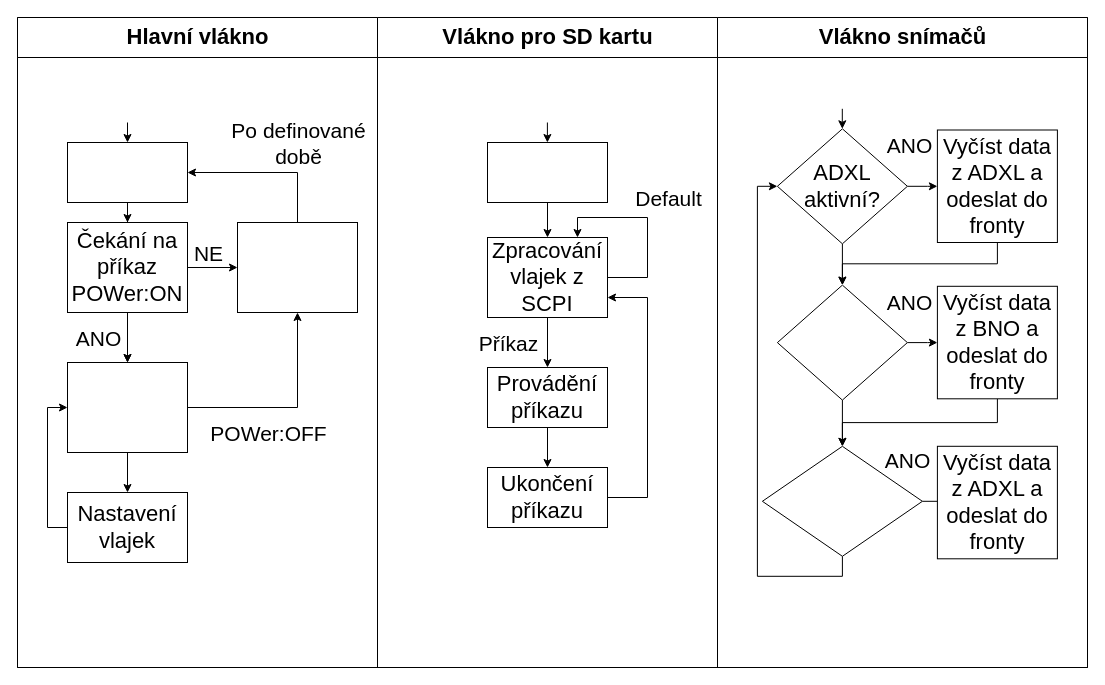
Some shapes in this 1105 by 685 pixel diagram are drawn without their labels. The centre of each missing label's shape, as x and y in pixels:
BNO aktivní?: the point at 841,342
Inicializace: the point at 127,172
Inicializace SD karty: the point at 547,172
Plný ADC buffer?: the point at 841,500
Příjem a zpracování SCPI: the point at 127,407
Režim spánku: the point at 297,267
